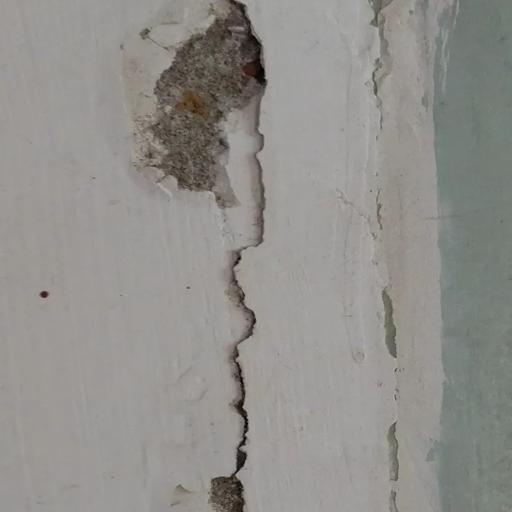major_crack: (175, 0, 271, 512)
